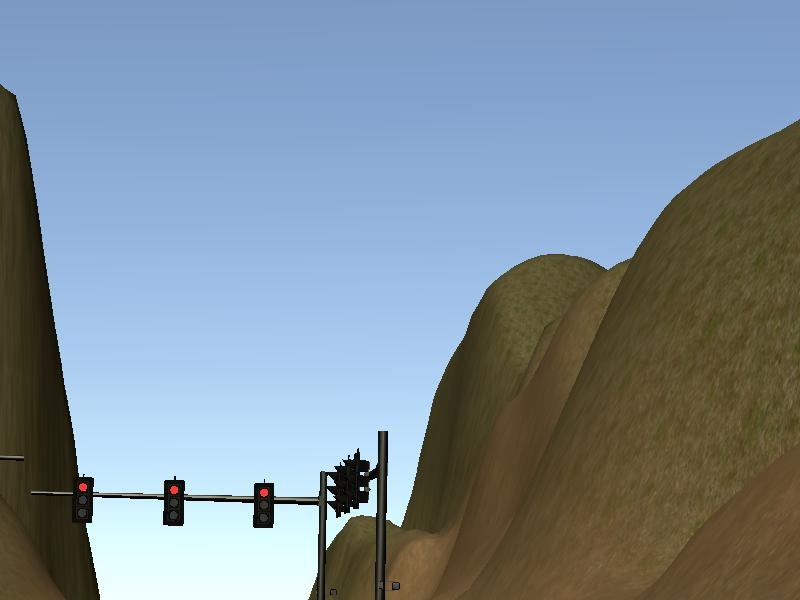RED: (252, 483, 273, 528), (163, 479, 184, 524), (72, 478, 93, 523)
